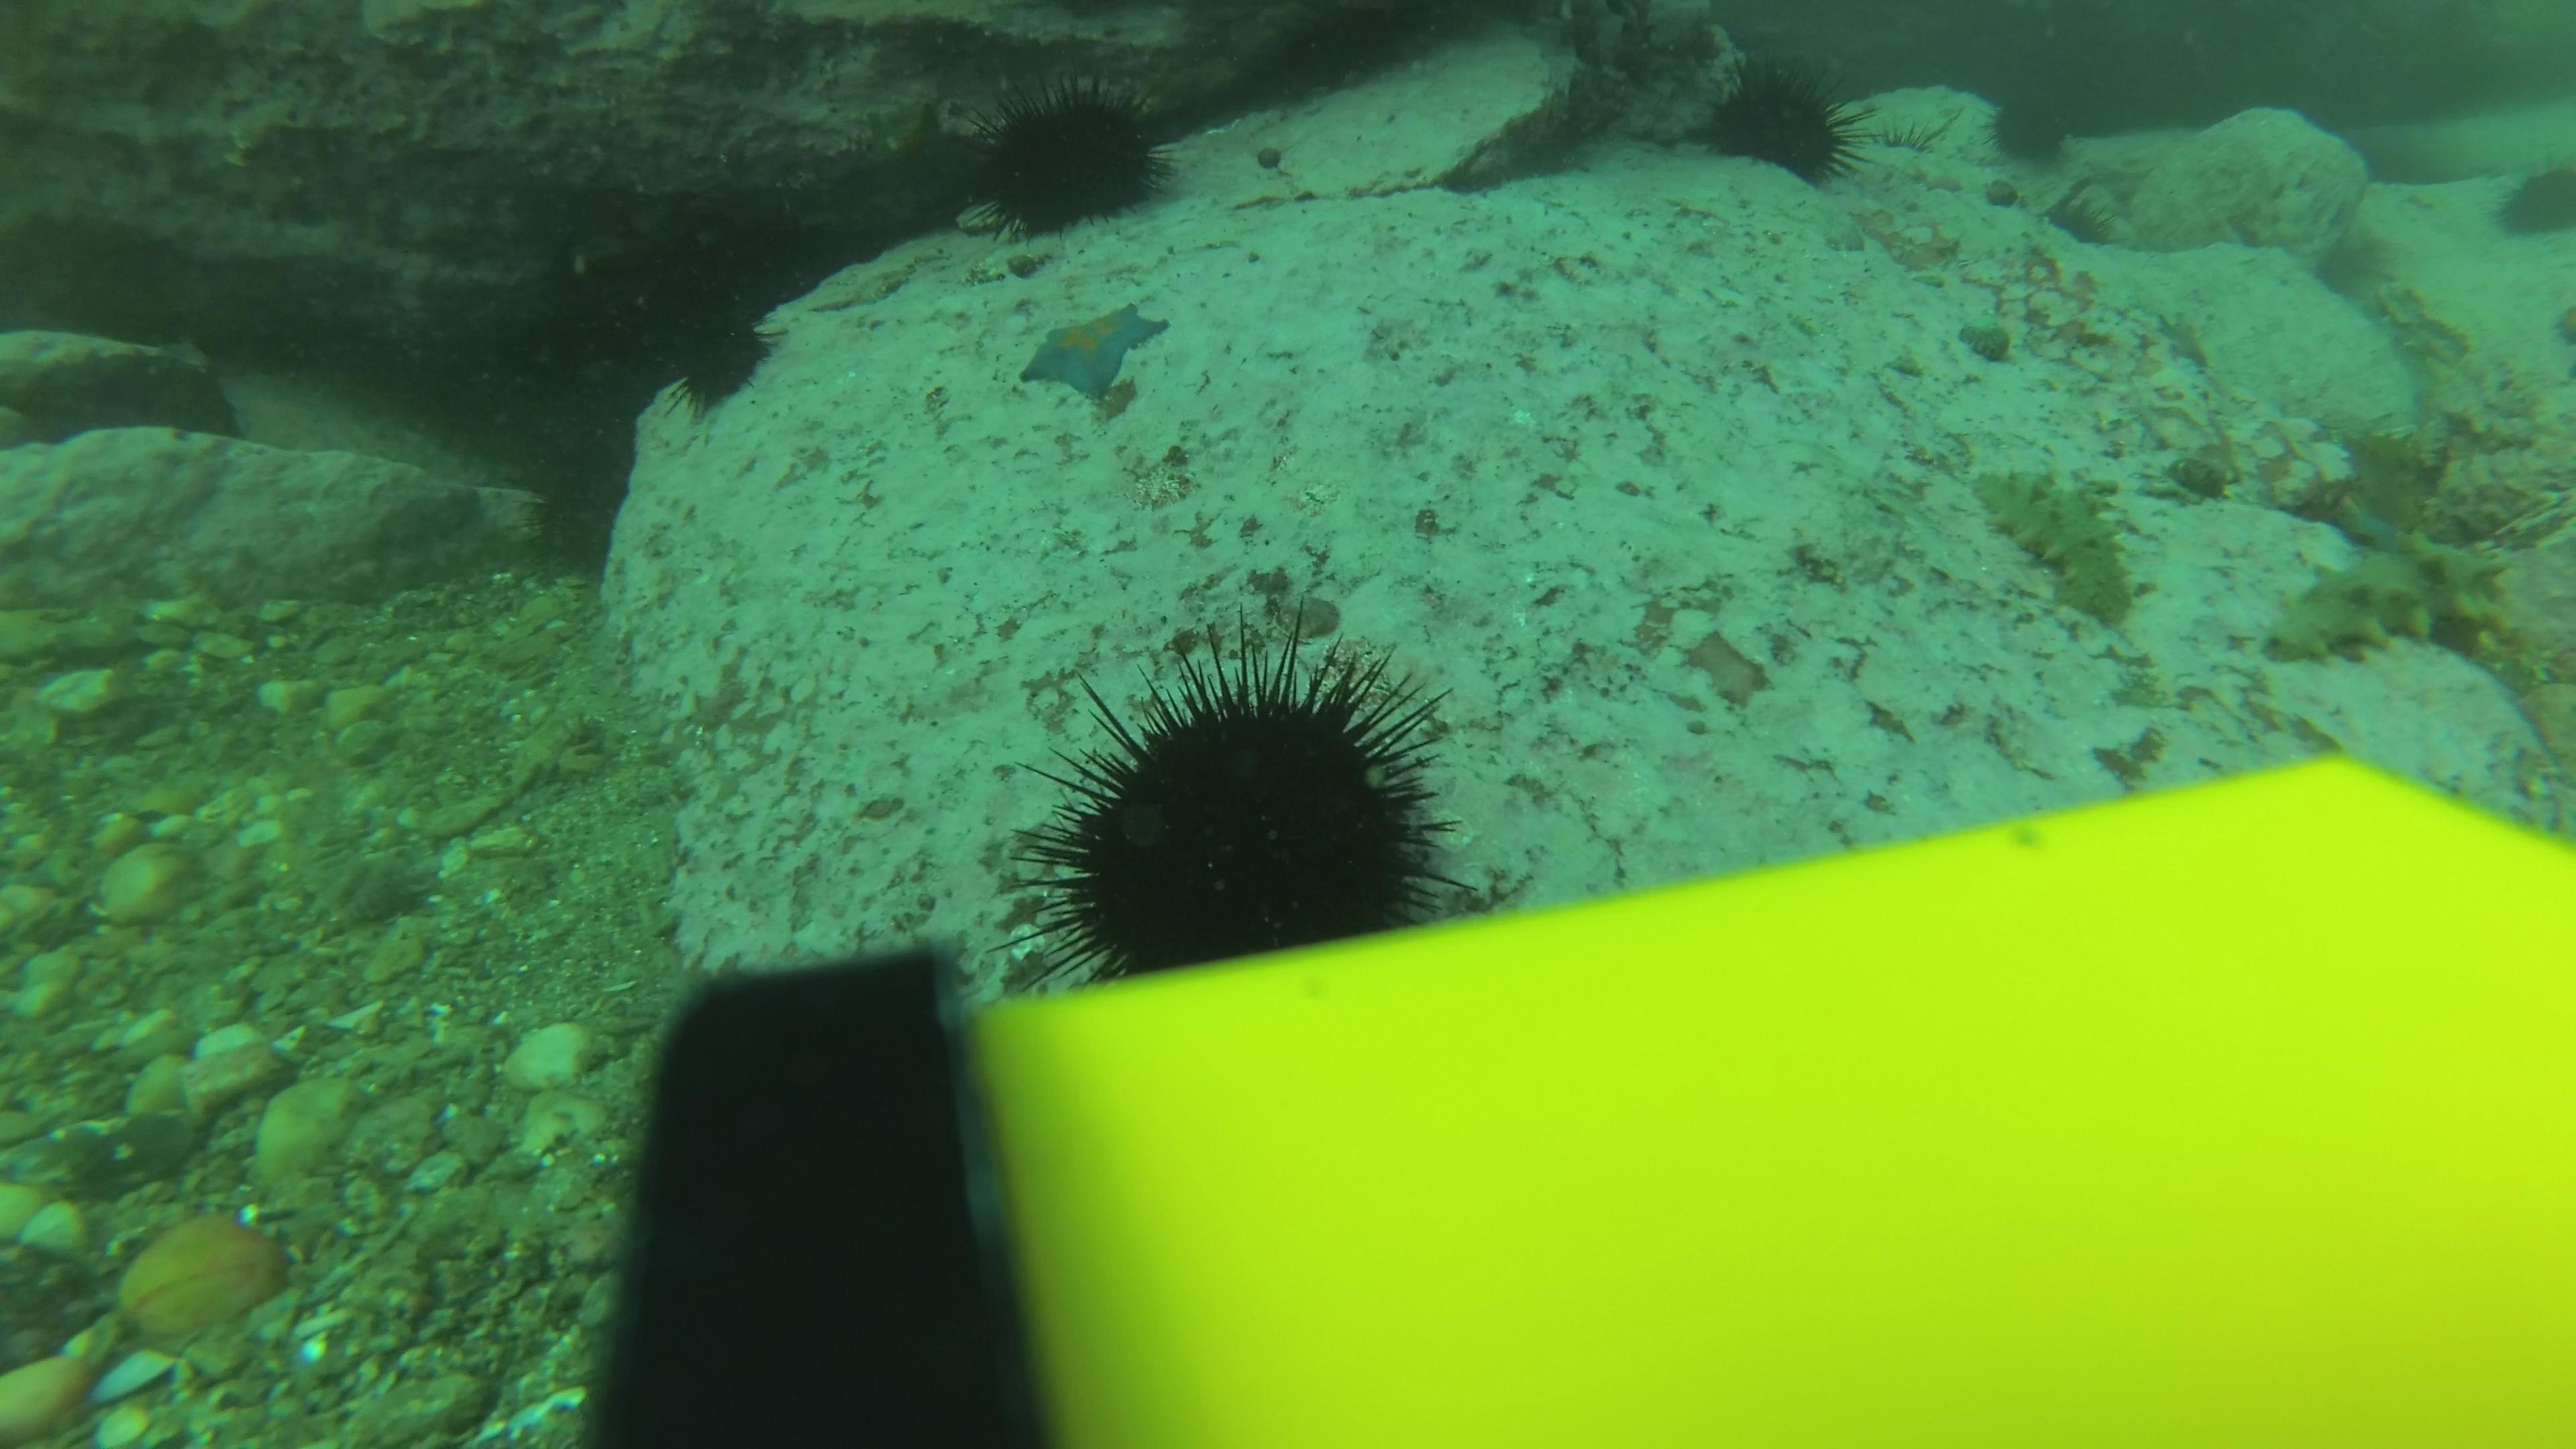echinus: (1016, 628, 1461, 975), (961, 73, 1180, 241), (1693, 55, 1868, 191), (651, 278, 784, 414), (1980, 81, 2084, 172), (2488, 152, 2576, 246), (2043, 193, 2127, 258)
holothurian: (2259, 524, 2541, 674), (1966, 455, 2148, 630), (2342, 421, 2457, 536)
starfish: (1014, 297, 1175, 407), (2282, 474, 2426, 557), (2150, 306, 2219, 375)
